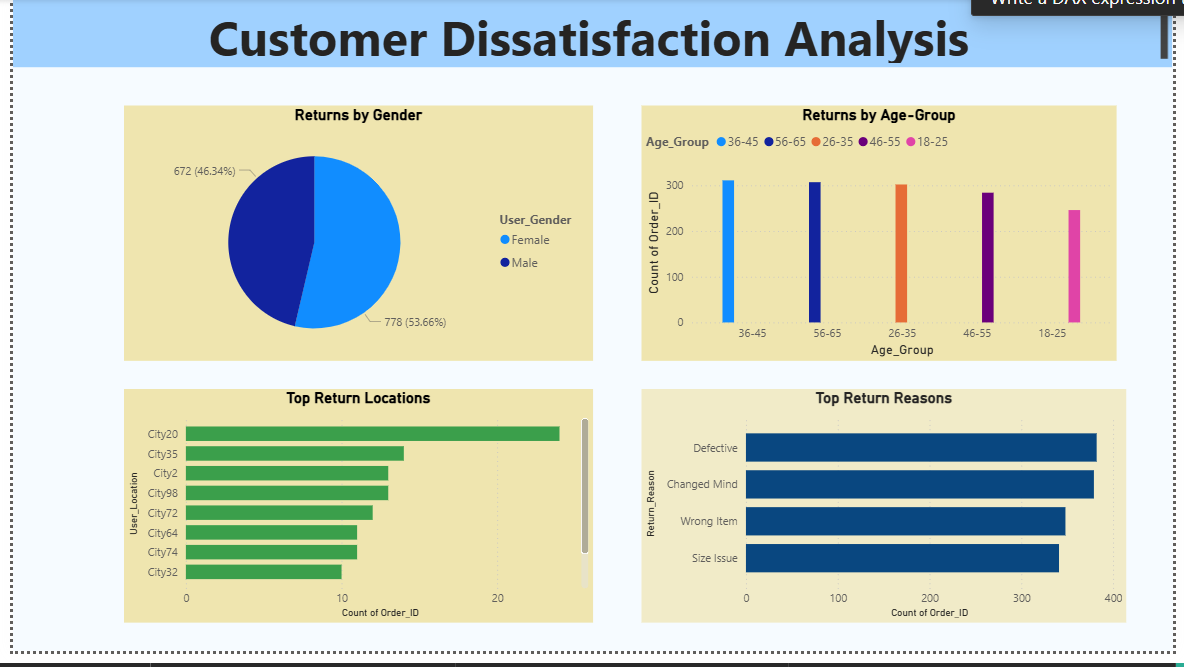

What the dashboard file says about the page in this screenshot:
{"tool":"powerbi","page":{"name":"Customer Dissatisfaction Analysis","canvas":[1280,720],"ordinal":1},"visuals":[{"type":"textbox","box":[0,0,1280,75.6],"z":0},{"type":"pieChart","title":"Returns by Gender","fields":{"Category":["Return_Data (2).User_Gender"],"Y":["CountNonNull(Return_Data (2).Product_ID)"]},"box":[122.2,117.8,517.8,282.2],"z":1000},{"type":"clusteredColumnChart","title":"Returns by Age-Group","fields":{"Series":["Return_Data (2).Age_Group"],"Category":["Return_Data (2).Age_Group"],"Y":["CountNonNull(Return_Data (2).Order_ID)"]},"box":[693.3,117.8,524.4,282.2],"z":2000},{"type":"clusteredBarChart","title":"Top Return Locations","fields":{"Category":["Return_Data (2).User_Location"],"Y":["CountNonNull(Return_Data (2).Order_ID)"]},"box":[122.2,431.1,517.8,257.8],"z":3000},{"type":"clusteredBarChart","title":"Top Return Reasons","fields":{"Y":["CountNonNull(Return_Data (2).Order_ID)"],"Category":["Return_Data (2).Return_Reason"]},"box":[693.3,431.1,535.6,257.8],"z":4000}]}

Visuals, with their boxes on the page's 1280x720 design canvas (x1, y1, x2, y2). These are canvas units, not pixel positions in the 1184x667 screenshot, which may show the page scaled, cropped or inside an application window:
textbox: <bbox>0, 0, 1280, 76</bbox>
"Returns by Gender" pieChart: <bbox>122, 118, 640, 400</bbox>
"Returns by Age-Group" clusteredColumnChart: <bbox>693, 118, 1218, 400</bbox>
"Top Return Locations" clusteredBarChart: <bbox>122, 431, 640, 689</bbox>
"Top Return Reasons" clusteredBarChart: <bbox>693, 431, 1229, 689</bbox>
